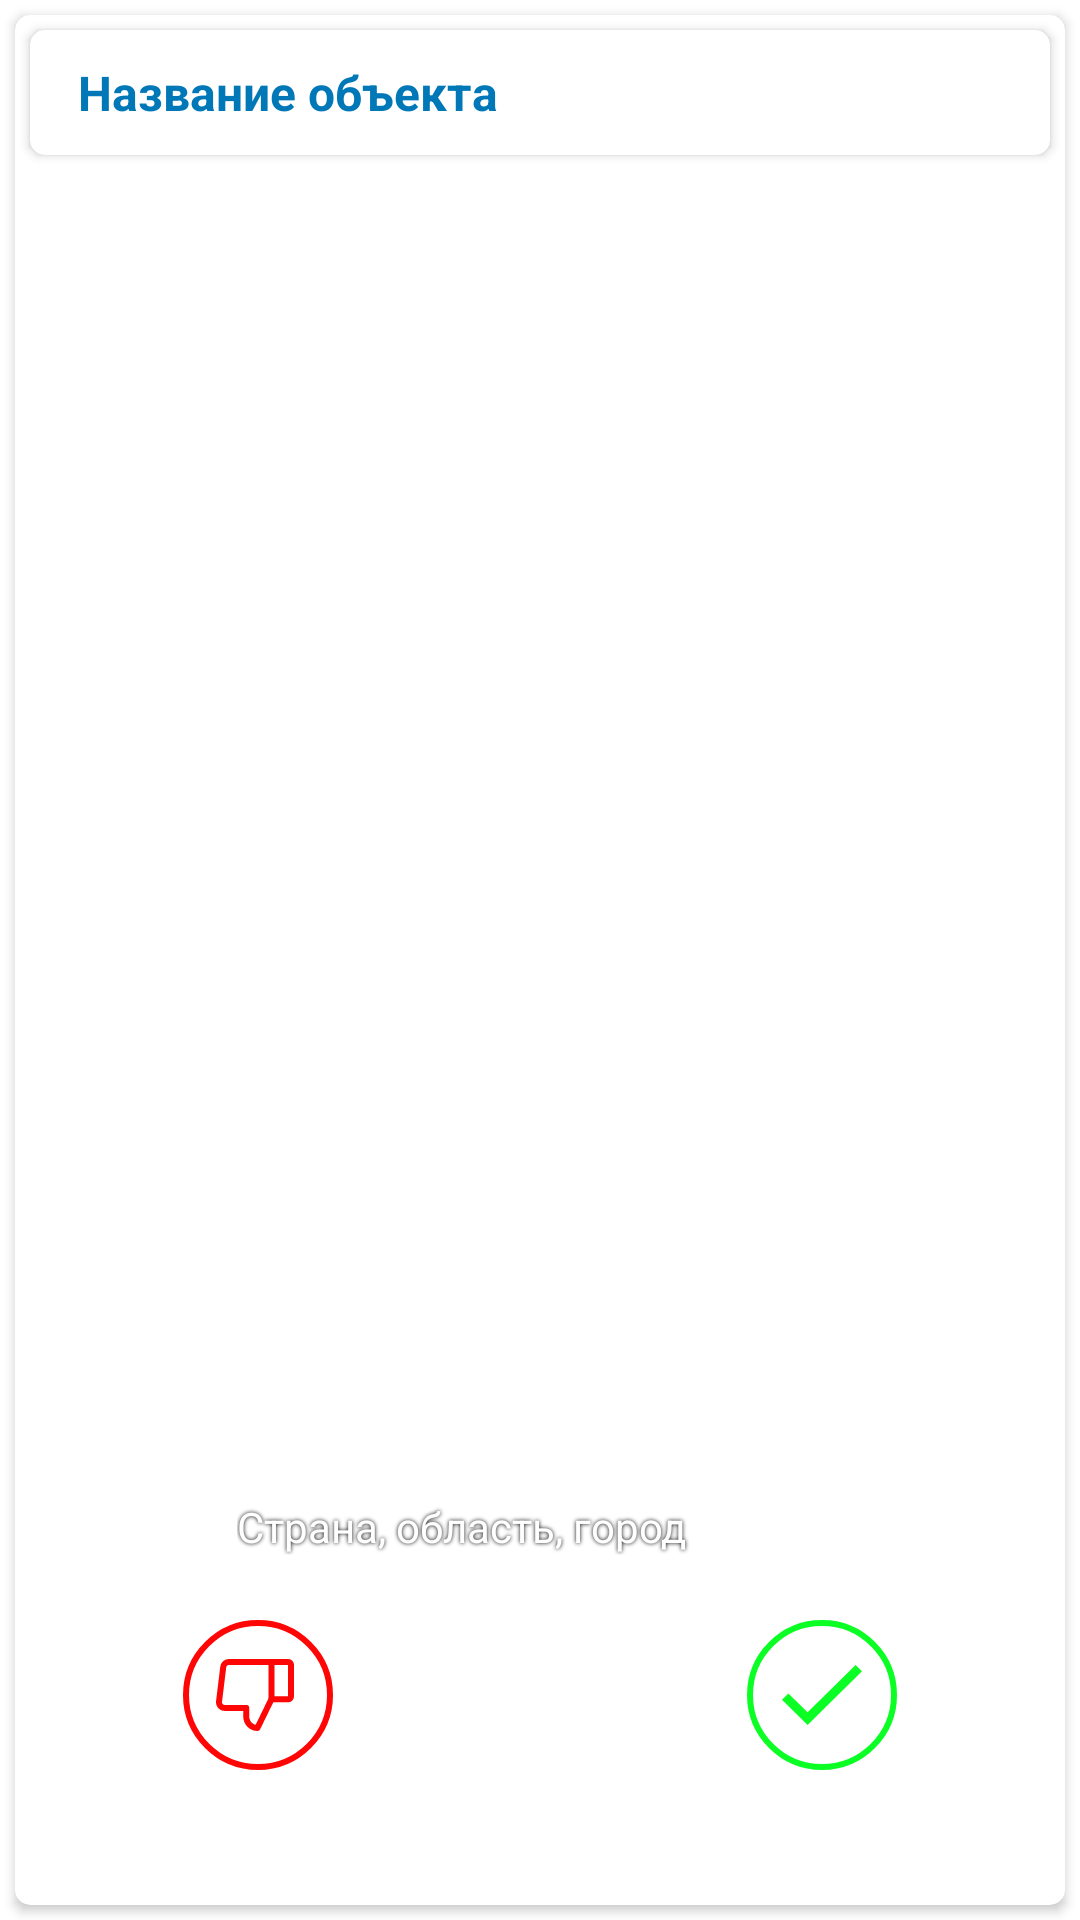

Where to tap for icons on this 1080x1920 app screen, as point (x, y):
swipe dislike: point (258, 1695)
swipe like: point (822, 1695)
